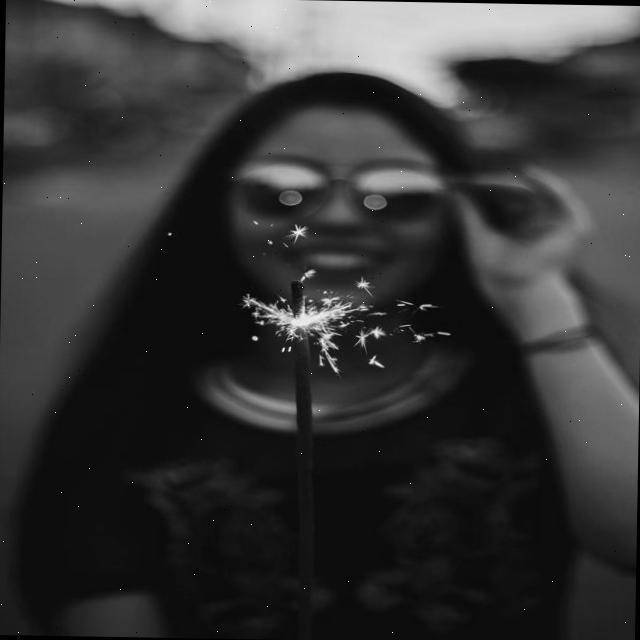Happiness: (220, 101, 460, 322)
